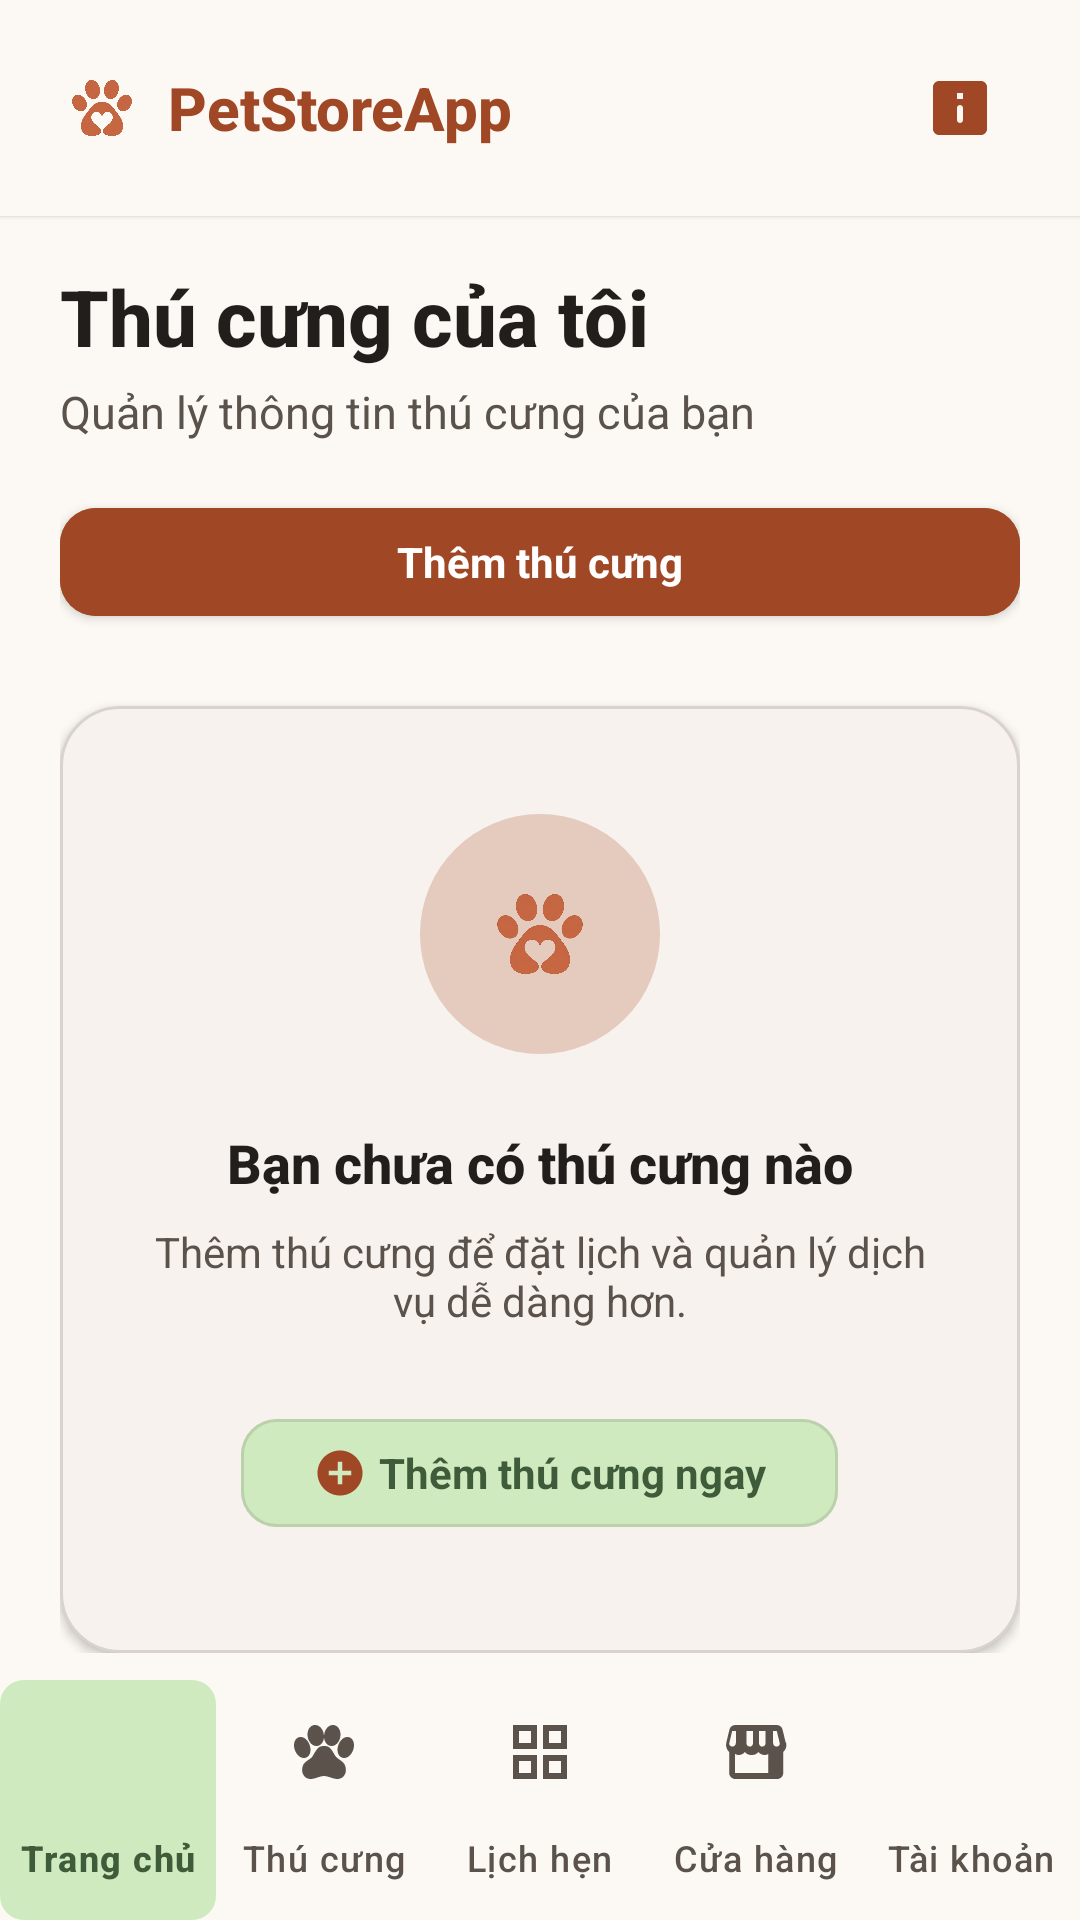

Where icons sit on this 1080px x 1920px app screen, as (x1, y1, x2, y2):
petstore paw: (72, 80, 132, 136)
